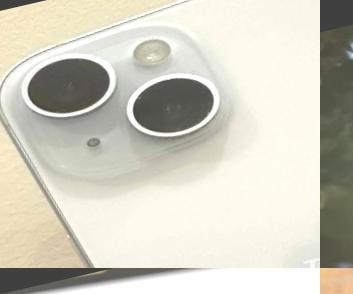scratch: (121, 62, 223, 146)
